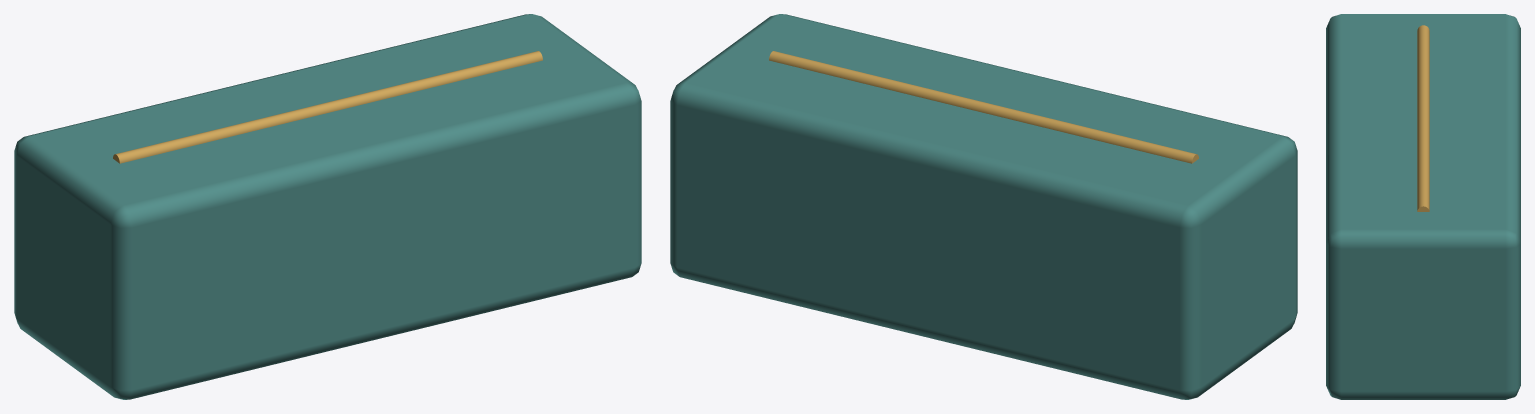
File: wp-trousse-d-ecole.glb
The picture shows the model from 3 angles, left to right: view 1: azimuth 30°, elevation 25°; view 2: azimuth 150°, elevation 25°; view 3: azimuth 270°, elevation 25°; orthographic projection. The views are drawn at different scales.
Parts seen in each view (by area): view 1: wp-trousse-d-ecole; view 2: wp-trousse-d-ecole; view 3: wp-trousse-d-ecole.
Boxes of the visible parts, x1,y1,x2,y2 form: wp-trousse-d-ecole: (14,14,641,399); wp-trousse-d-ecole: (670,14,1297,399); wp-trousse-d-ecole: (1326,14,1520,399).
Bounding box in the file's own units: 0.22 × 0.08 × 0.08.
